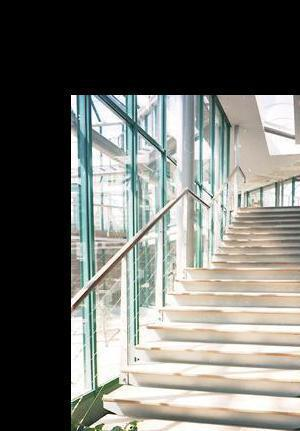Escaleras: (73, 158, 300, 431)
